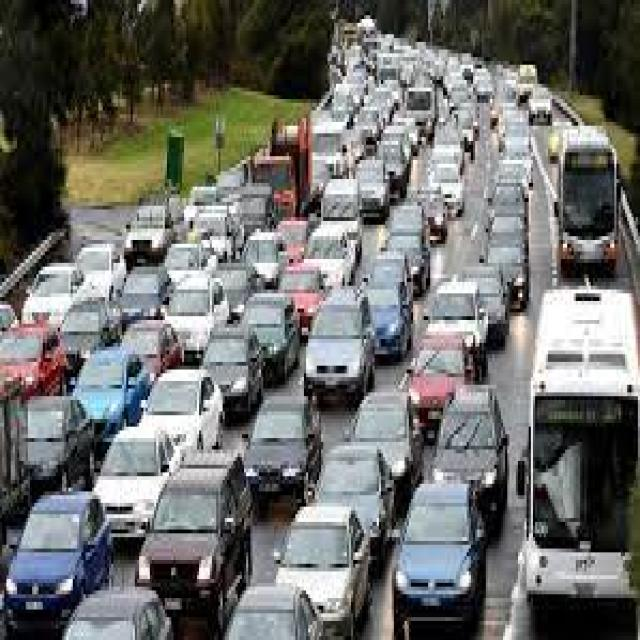bus: (524, 286, 638, 610), (559, 126, 614, 274)
car: (4, 495, 169, 636), (137, 453, 248, 636), (394, 484, 484, 640), (317, 442, 392, 610), (276, 507, 366, 640), (432, 385, 507, 537), (94, 423, 178, 537), (244, 396, 319, 503), (165, 244, 227, 362), (306, 290, 372, 400), (353, 392, 420, 499), (73, 347, 143, 442), (141, 370, 220, 450), (28, 396, 92, 488), (409, 335, 462, 442), (428, 282, 486, 377), (64, 590, 173, 640), (227, 583, 321, 640), (203, 324, 261, 415), (242, 293, 298, 381), (366, 251, 411, 358), (60, 301, 118, 373), (387, 202, 428, 293), (24, 263, 81, 328), (464, 263, 507, 347), (126, 202, 178, 267), (300, 225, 351, 290), (184, 206, 242, 263), (122, 320, 182, 373), (280, 263, 321, 339), (428, 149, 462, 240), (120, 267, 167, 328), (77, 244, 124, 301), (488, 244, 527, 309), (246, 229, 285, 290), (417, 171, 445, 244), (377, 141, 407, 198), (360, 160, 387, 221), (323, 179, 355, 217), (490, 217, 522, 244), (529, 84, 548, 126)
